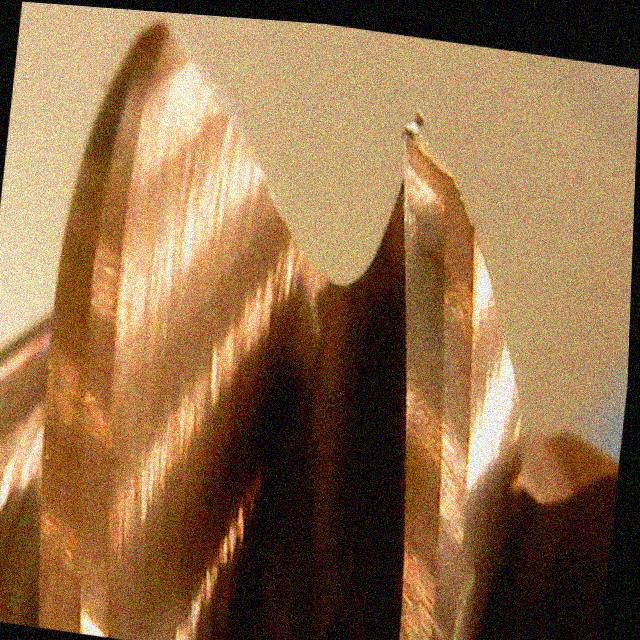Tool-wear-class-0: (355, 113, 517, 487)
